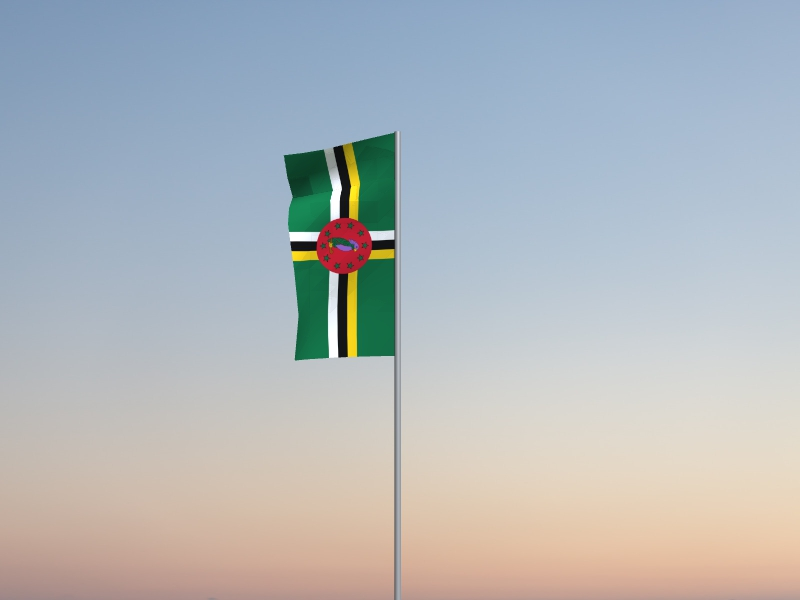dm: (282, 134, 395, 362)
